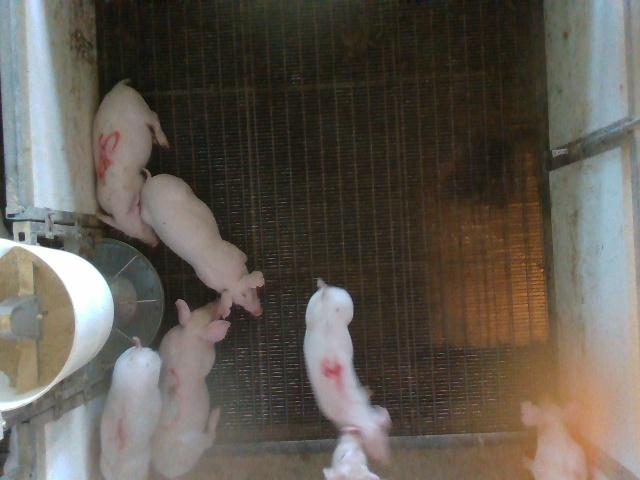pig-1: (101, 338, 162, 479)
pig-3: (152, 299, 229, 478)
pig-4: (304, 281, 390, 463)
pig-5: (94, 80, 169, 246)
